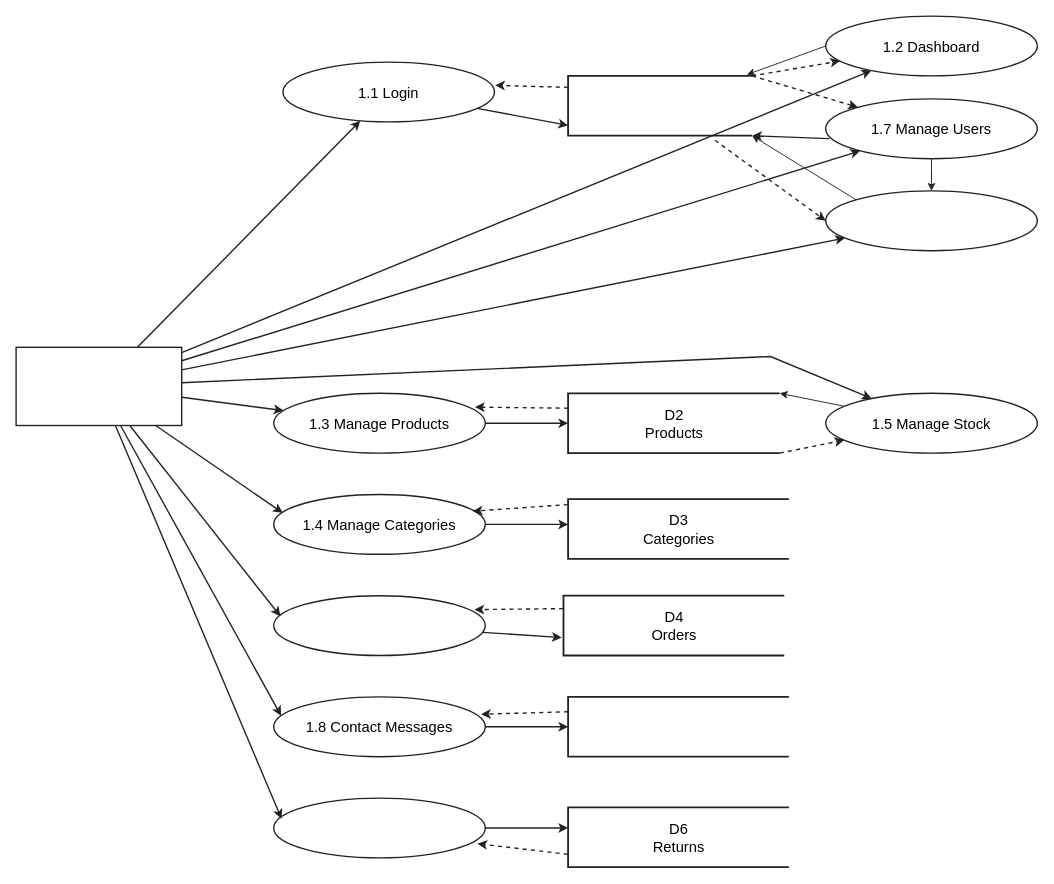
This 1054x884 diagram has some shape labels left out. Here are the shapes that lost their labels. From the top down, the centre of each, then its label:
At point 660,105: "D1 Users".
At point 931,220: "1.10 Logout".
At point 98,386: "Admin".
At point 379,625: "1.6 Manage Orders".
At point 678,726: "D5 Contact Messages".
At point 379,827: "1.9 Manage Returns".
